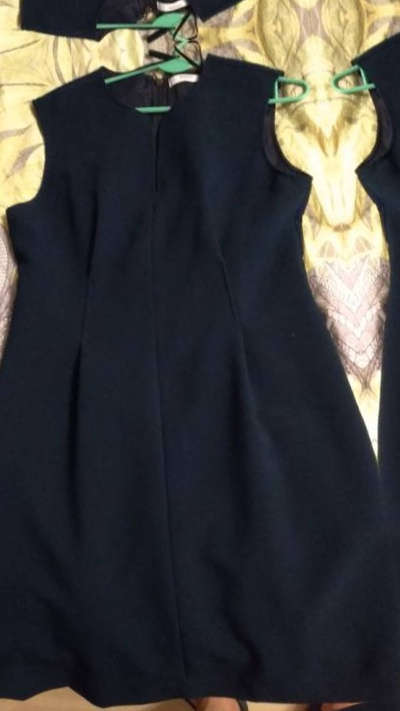Dress: (0, 32, 400, 711), (316, 0, 400, 692), (0, 0, 306, 68), (0, 91, 19, 711), (43, 698, 400, 711), (212, 0, 400, 11)
